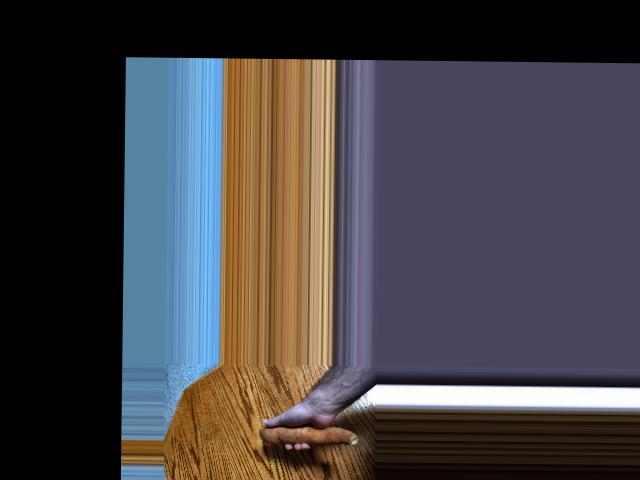sweet_potato: (258, 415, 359, 446)
